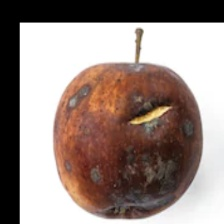apple: (24, 34, 210, 178)
